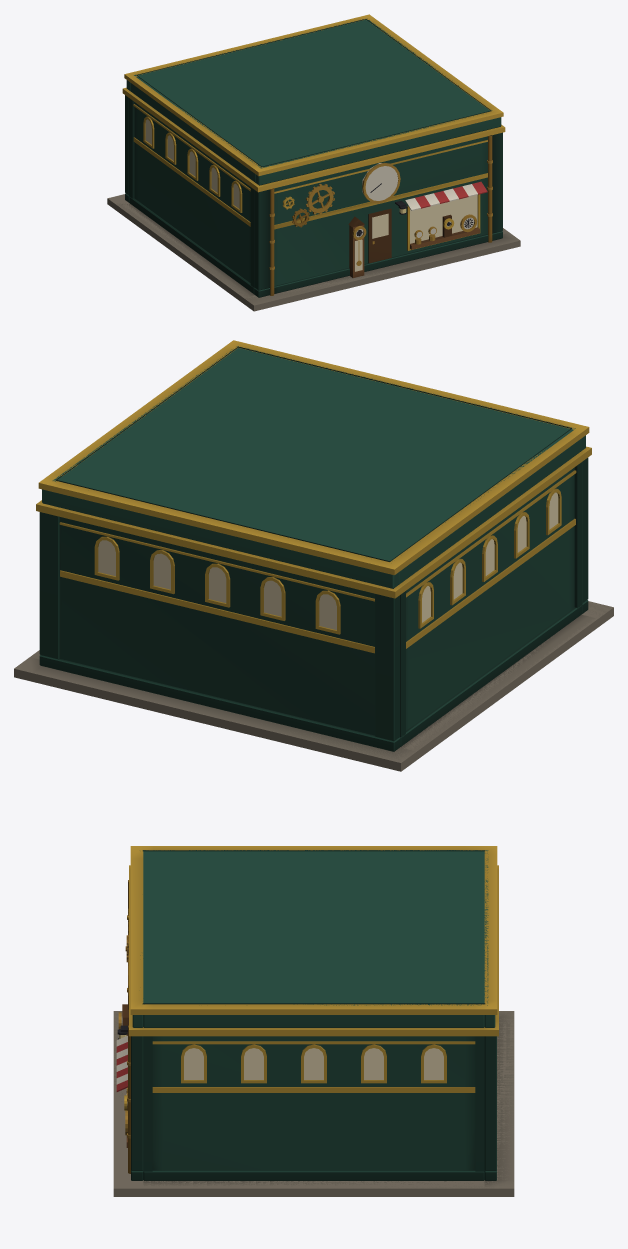
File: ClockGolemFloor.fbx
3 renders of one model, top to bottom at view 1: azimuth 30°, elevation 25°; view 2: azimuth 150°, elevation 25°; view 3: azimuth 270°, elevation 25°, orthographic. The views are drawn at different scales.
Parts seen in each view (by area): view 1: CG_S_All, CG_F_Rings, CG_F_Smooth, CG_F_Quiet, CG_F_Glass, CG_F_Props; view 2: CG_F_Rings, CG_S_All, CG_F_Smooth, CG_F_Quiet, CG_F_Glass; view 3: CG_S_All, CG_F_Rings, CG_F_Smooth, CG_F_Quiet, CG_F_Glass, CG_F_Props.
Part boxes in pixels (x1,y1,x2,y2): CG_S_All: (107, 18, 520, 311); CG_F_Rings: (123, 14, 504, 285); CG_F_Smooth: (122, 74, 505, 297); CG_F_Quiet: (114, 95, 519, 305); CG_F_Glass: (145, 119, 477, 271); CG_F_Props: (348, 181, 487, 277); CG_F_Rings: (36, 340, 591, 735); CG_S_All: (14, 346, 613, 771); CG_F_Smooth: (36, 427, 591, 751); CG_F_Quiet: (14, 457, 612, 762); CG_F_Glass: (98, 492, 558, 629); CG_S_All: (113, 850, 514, 1196); CG_F_Rings: (128, 846, 498, 1170); CG_F_Smooth: (116, 881, 498, 1180); CG_F_Quiet: (114, 1011, 513, 1188); CG_F_Glass: (119, 1035, 443, 1079); CG_F_Props: (116, 1004, 128, 1090).
Bounding box in the file's own units: 60 × 20 × 60.
